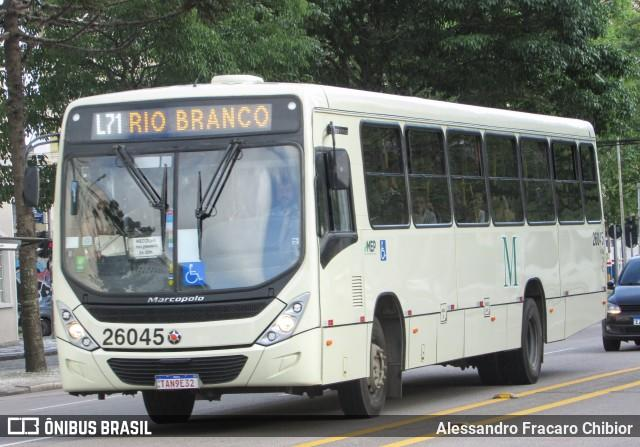RIO BRANCO: (125, 102, 273, 138)
